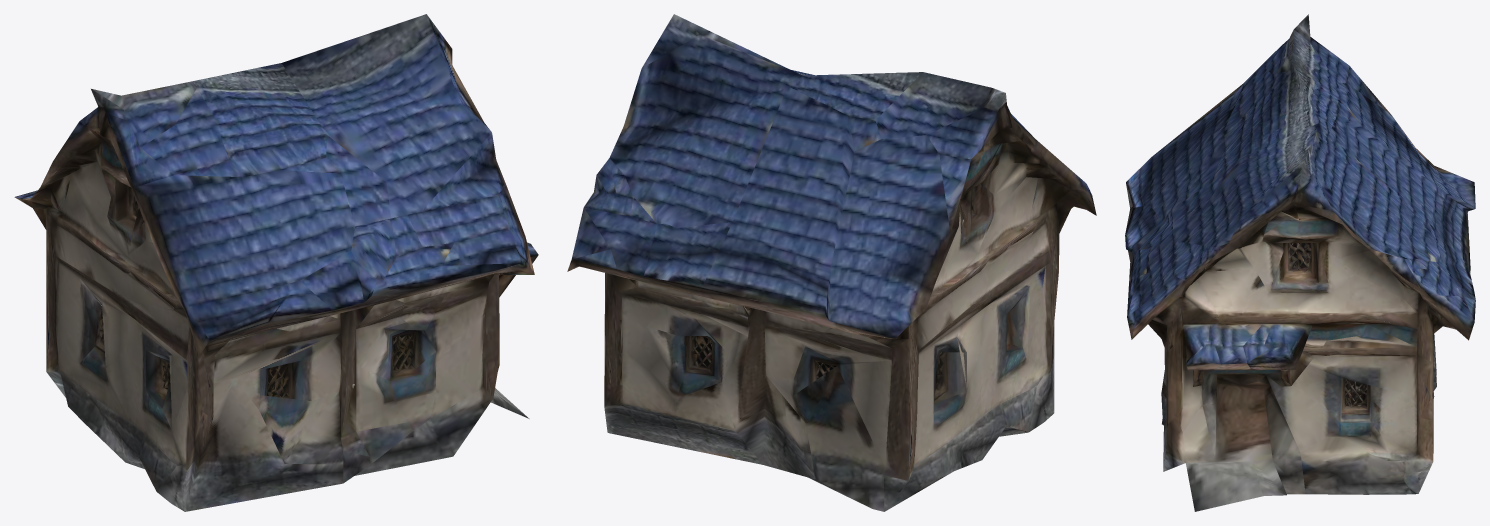
File: house_generic_b.glb
3 views of the same model, side by side, from view 1: azimuth 30°, elevation 25°; view 2: azimuth 150°, elevation 25°; view 3: azimuth 270°, elevation 25° (orthographic). The views are drawn at different scales.
Visible parts, largest first — view 1: tripo_node_ec88c3ae-fc66-42d7-b53e-eef88047a0cc; view 2: tripo_node_ec88c3ae-fc66-42d7-b53e-eef88047a0cc; view 3: tripo_node_ec88c3ae-fc66-42d7-b53e-eef88047a0cc.
Part boxes in pixels (left/top/right/bottom): tripo_node_ec88c3ae-fc66-42d7-b53e-eef88047a0cc: left=14, top=14, right=538, bottom=511; tripo_node_ec88c3ae-fc66-42d7-b53e-eef88047a0cc: left=567, top=14, right=1096, bottom=511; tripo_node_ec88c3ae-fc66-42d7-b53e-eef88047a0cc: left=1125, top=14, right=1475, bottom=511.
Size of the model in its own units: 0.976 by 0.9208 by 0.8719.
Materials: 1 (1 with a texture image).
